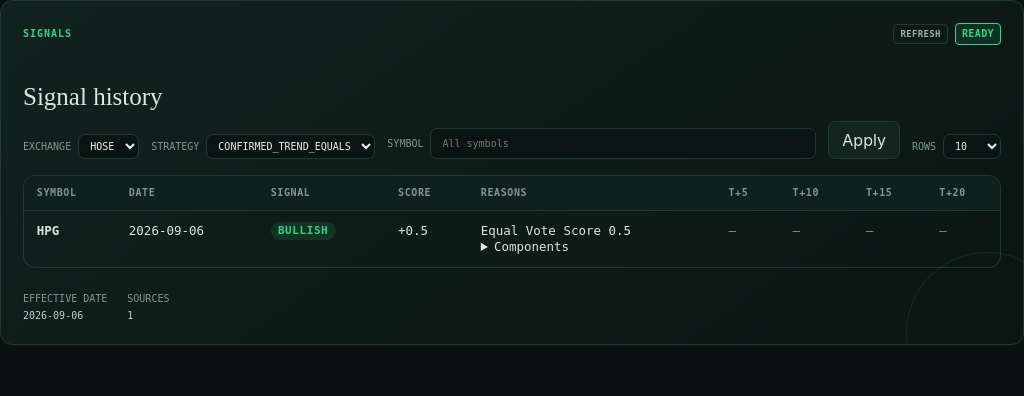
SignalHistory › defaults to confirmed trend and exposes component evidence
expect the text "HPG" is shown: met, box [37, 223, 59, 238]
Click the heading "Components".
click(532, 247)  # box [494, 239, 569, 254]
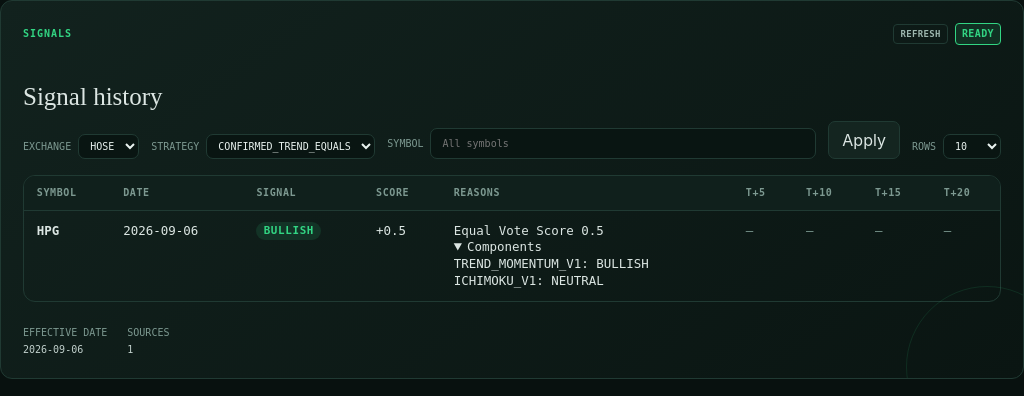
expect the text "TREND_MOMENTUM_V1: BULLISH" is shown: met, box [454, 256, 649, 271]
expect the text "ICHIMOKU_V1: NEUTRAL" is shown: met, box [454, 273, 604, 288]
